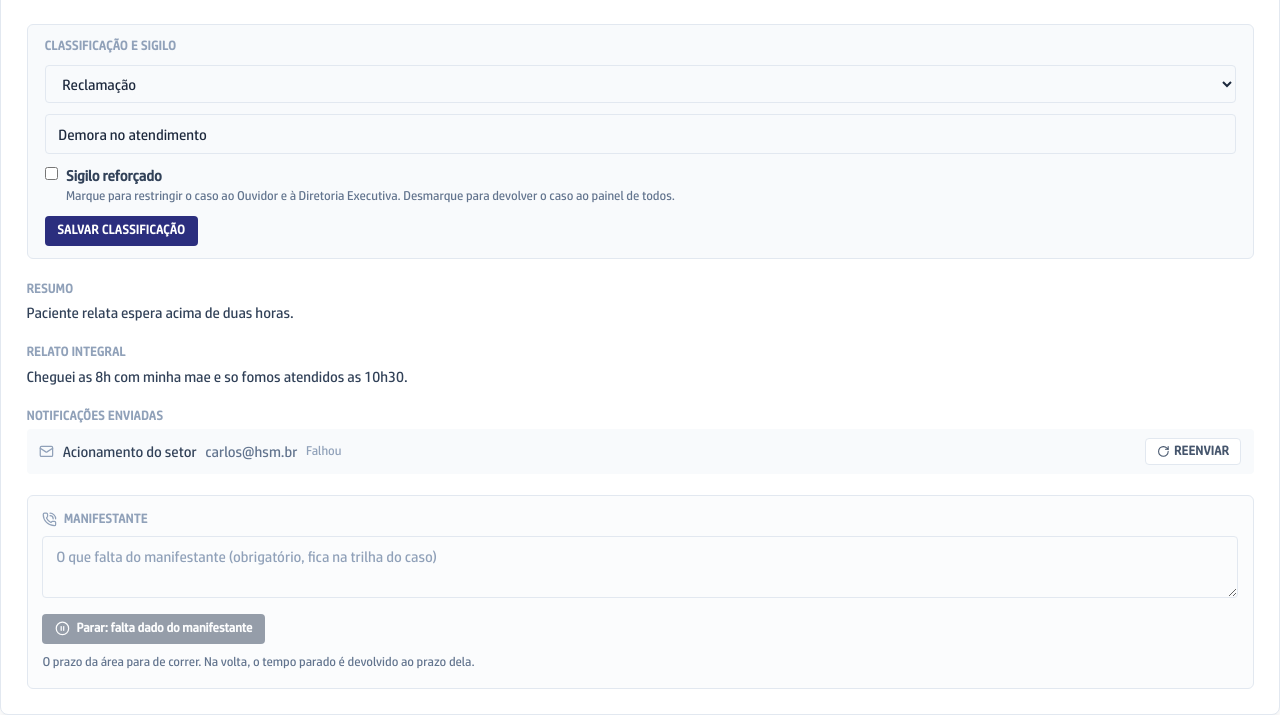
Test: o motivo da recusa do reenvio na tela (issue #707) › mostra o motivo que o servidor devolveu, e não a frase do provedor
(page scrolled)
What coordinates should you click on to do the following:
click the button "Reenviar"
I would click on:
 (1193, 452)
Its box is [1145, 438, 1241, 465].
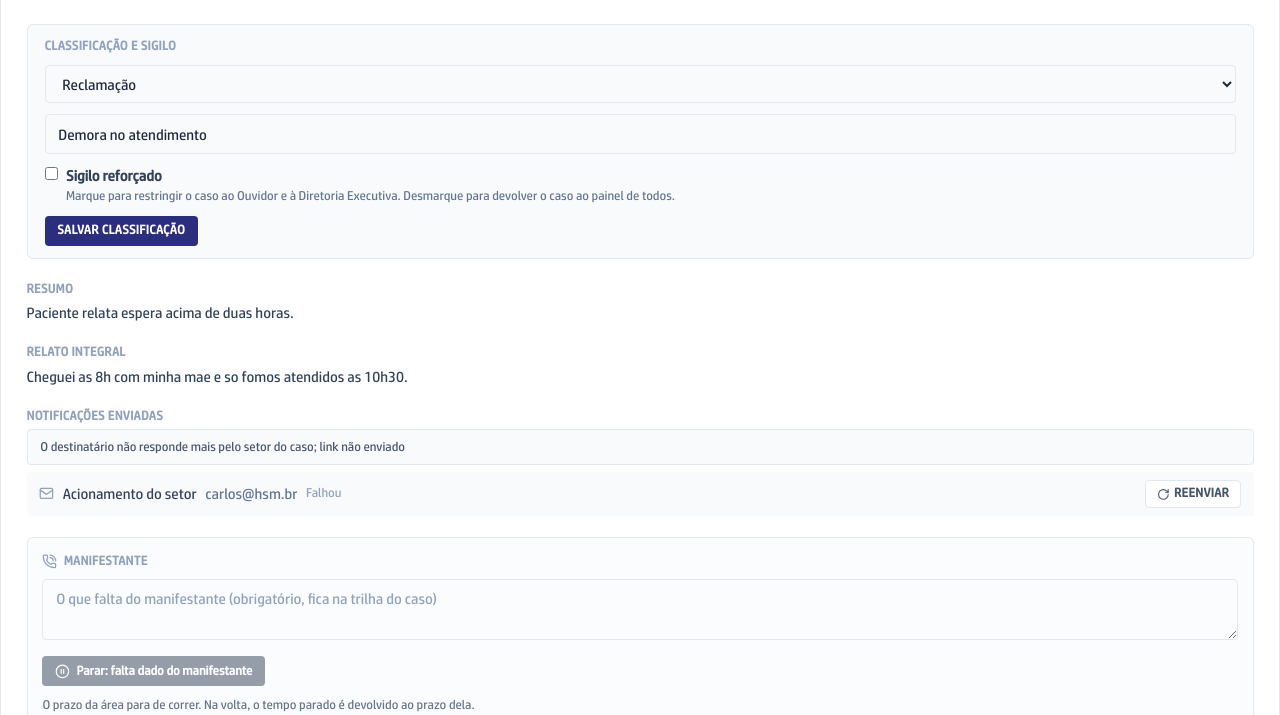
Check: the text "O destinatário não responde mais pelo setor do caso; link não enviado" is shown, box [26, 429, 1254, 465]
